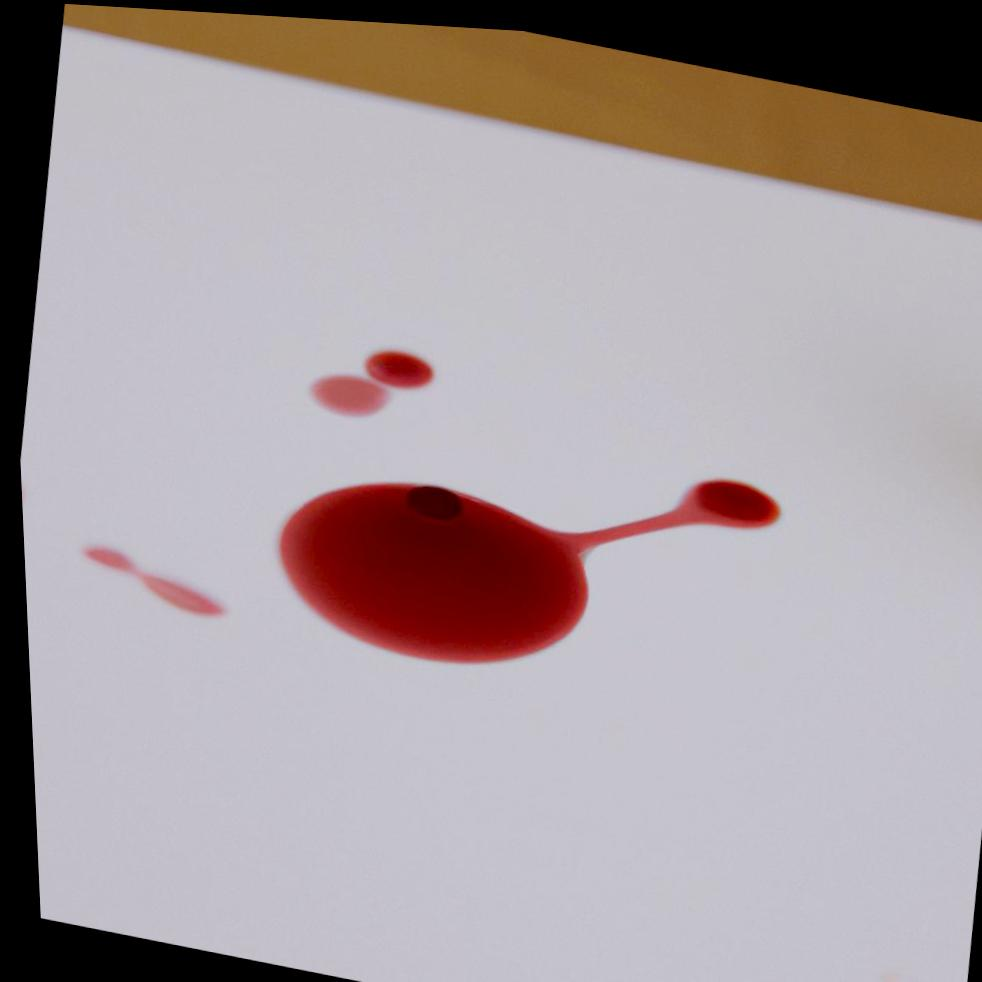Fire: (274, 469, 776, 658), (305, 344, 431, 412)
